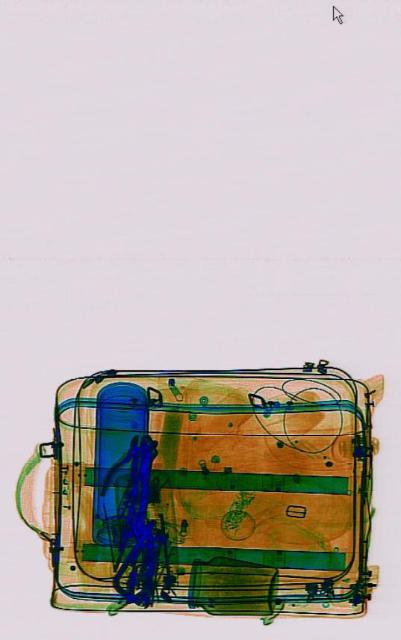Pliers: (94, 422, 158, 526)
